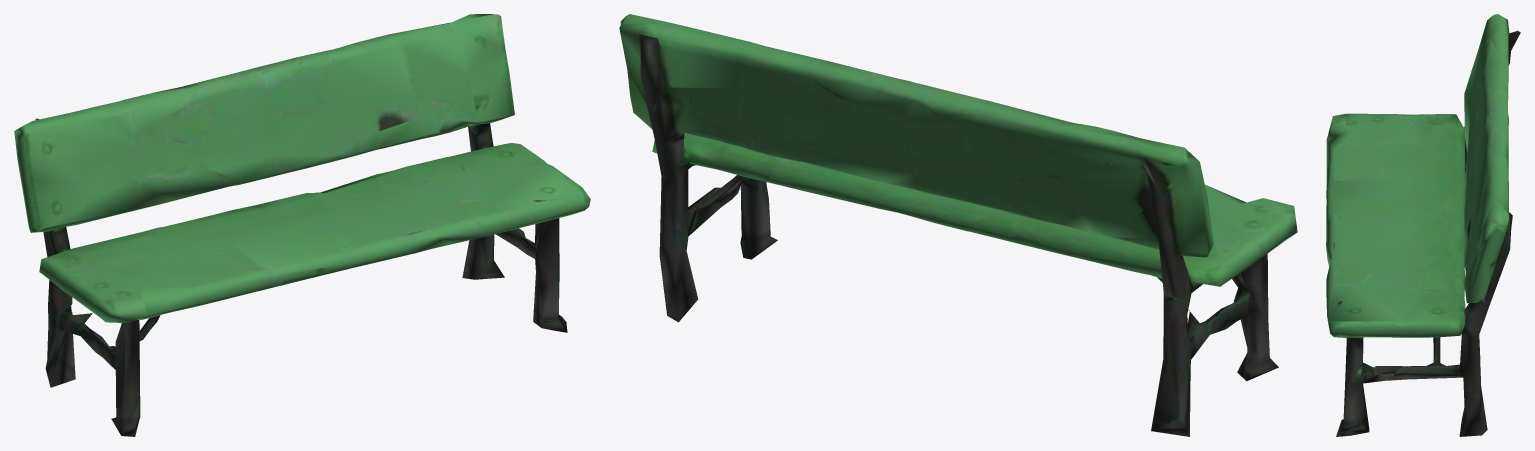
File: prop_bench.glb
3 views of the same model, side by side, from view 1: azimuth 30°, elevation 25°; view 2: azimuth 150°, elevation 25°; view 3: azimuth 270°, elevation 25° (orthographic). The views are drawn at different scales.
Parts seen in each view (by area): view 1: tripo_node_5475e485-871d-4ebd-870b-509c16da3441; view 2: tripo_node_5475e485-871d-4ebd-870b-509c16da3441; view 3: tripo_node_5475e485-871d-4ebd-870b-509c16da3441.
Part boxes in pixels (x1,y1,x2,y2): tripo_node_5475e485-871d-4ebd-870b-509c16da3441: [14, 14, 590, 436]; tripo_node_5475e485-871d-4ebd-870b-509c16da3441: [619, 14, 1297, 436]; tripo_node_5475e485-871d-4ebd-870b-509c16da3441: [1326, 14, 1520, 436].
Bounding box in the file's own units: 0.9815 × 0.4924 × 0.3814.
Materials: 1 (1 with a texture image).
